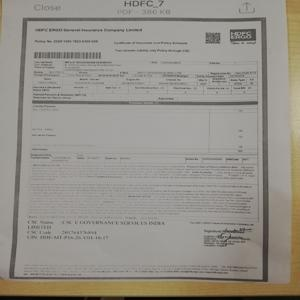image: (228, 28, 257, 43)
table: (31, 102, 259, 157), (33, 60, 259, 101)
text: (27, 218, 166, 240), (32, 24, 146, 35), (35, 37, 100, 45)
